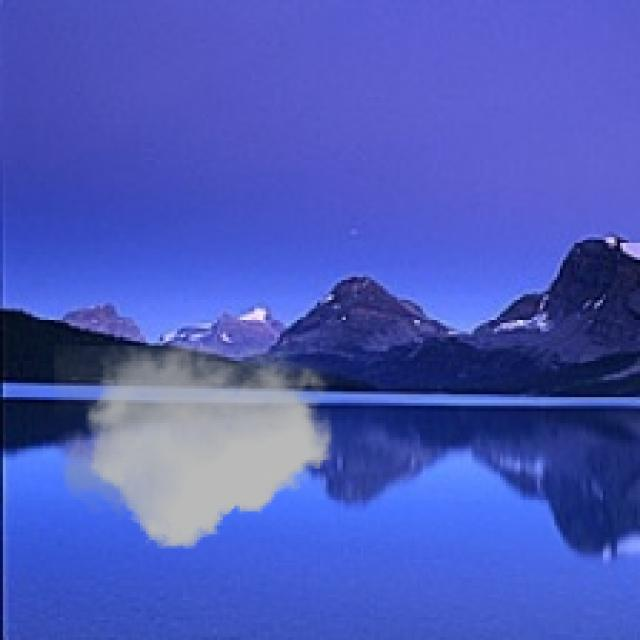smoke: (54, 346, 337, 548)
